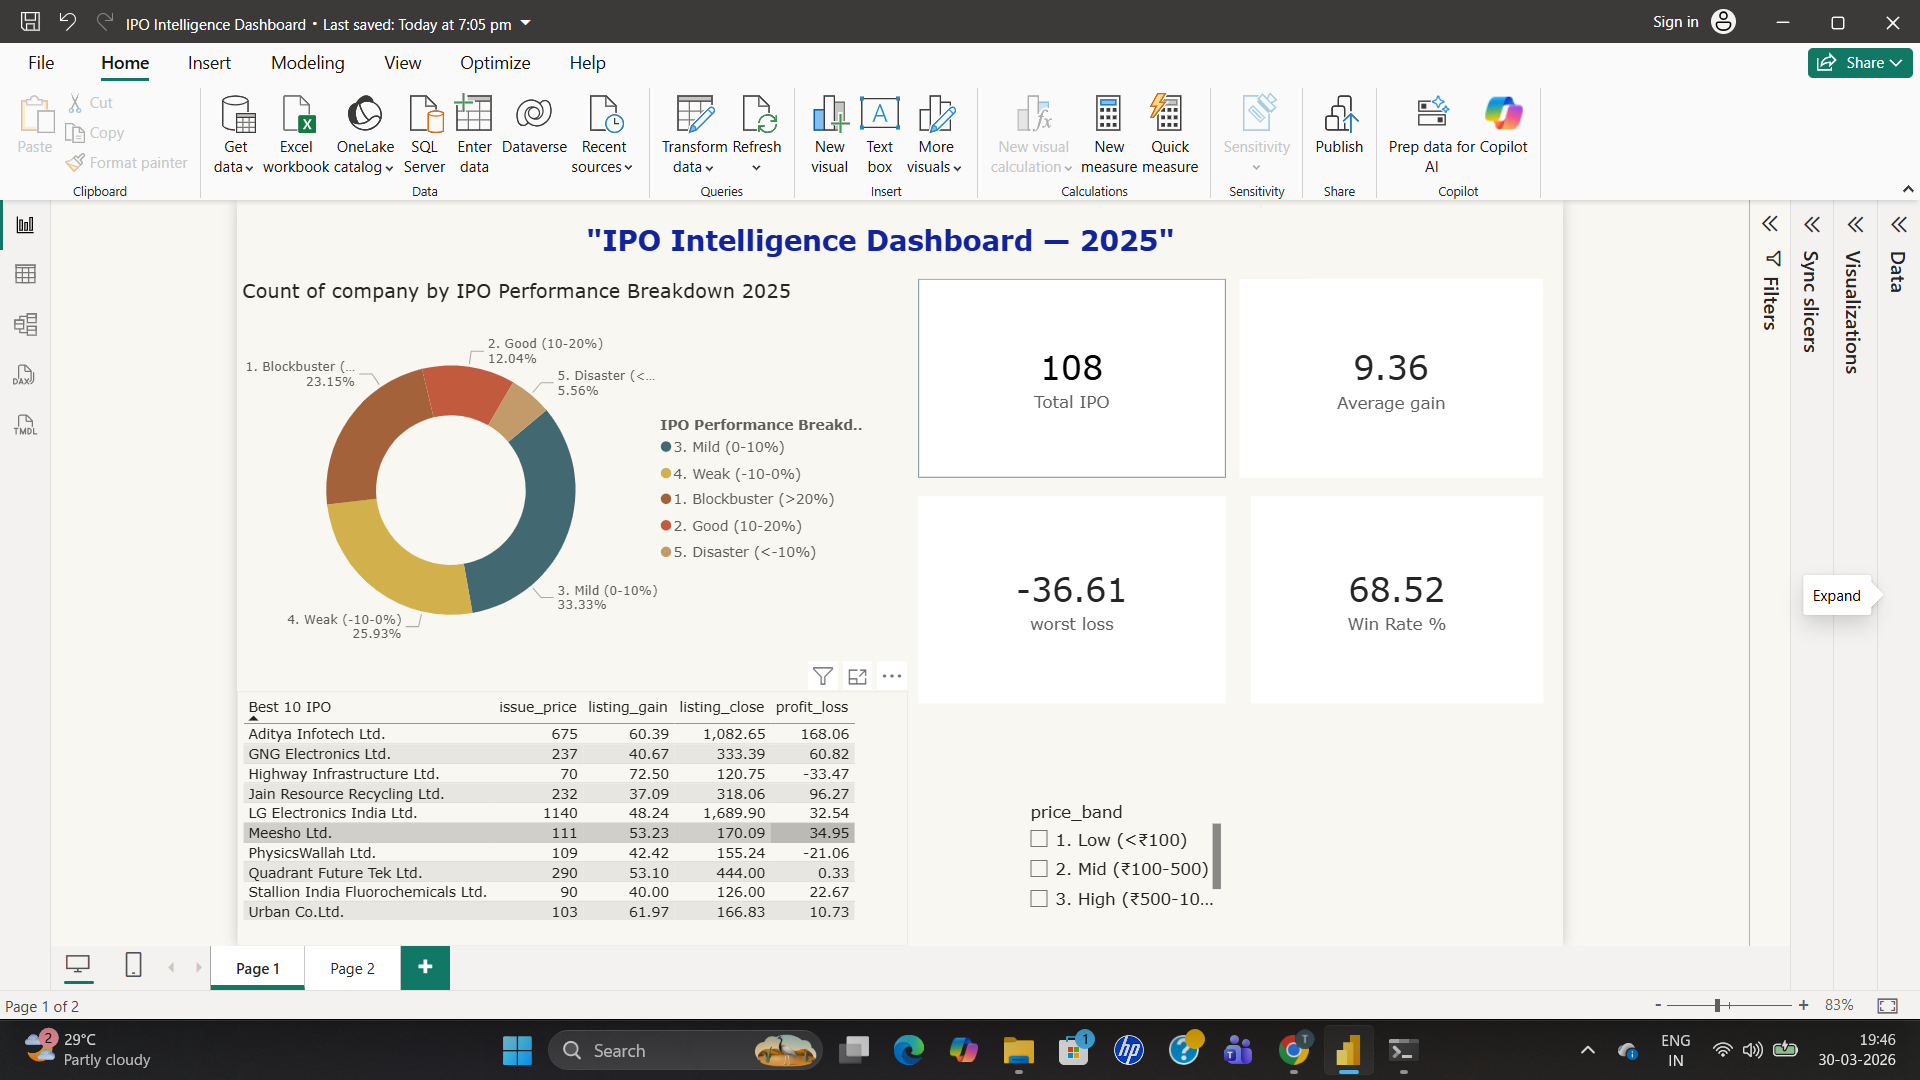

What the dashboard file says about the page in this screenshot:
{"tool":"powerbi","page":{"name":"Page 1","canvas":[1280,720],"ordinal":0},"visuals":[{"type":"card","fields":{"Values":["Avg(public ipo_data.listing_gain)"]},"box":[967.6,76,293.2,191.8],"z":0},{"type":"card","fields":{"Values":["CountNonNull(public ipo_data.company)"]},"box":[657.5,76,296.8,191.8],"z":1000},{"type":"card","fields":{"Values":[" public ipo_data.Win Rate %"]},"box":[978.4,285.9,282.3,200.3],"z":2000},{"type":"card","fields":{"Values":["Min(public ipo_data.listing_gain)"]},"box":[657.5,285.9,296.8,200.3],"z":3000},{"type":"donutChart","fields":{"Category":["public ipo_data.performance_category"],"Y":["CountNonNull(public ipo_data.company)"]},"box":[0,76,603.2,386.1],"z":4000},{"type":"slicer","fields":{"Values":[" public ipo_data.price_band"]},"box":[752.8,575.5,201.5,117],"z":5000},{"type":"tableEx","fields":{"Values":[" public ipo_data.company"," public ipo_data.issue_price"," public ipo_data.listing_gain"," public ipo_data.listing_close"," public ipo_data.profit_loss"]},"box":[0,474.1,647.9,246.1],"z":6000},{"type":"textbox","box":[331.8,16.9,702.1,59.1],"z":7000}]}

Visuals, with their boxes on the page's 1280x720 design canvas (x1, y1, x2, y2). These are canvas units, not pixel positions in the 1920x1080 screenshot, which may show the page scaled, cropped or inside an application window:
card - Avg(public ipo_data.listing_gain): l=968, t=76, r=1261, b=268
card - CountNonNull(public ipo_data.company): l=658, t=76, r=954, b=268
card -  public ipo_data.Win Rate %: l=978, t=286, r=1261, b=486
card - Min(public ipo_data.listing_gain): l=658, t=286, r=954, b=486
donutChart - public ipo_data.performance_category x CountNonNull(public ipo_data.company): l=0, t=76, r=603, b=462
slicer -  public ipo_data.price_band: l=753, t=576, r=954, b=692
tableEx -  public ipo_data.company x  public ipo_data.issue_price: l=0, t=474, r=648, b=720
textbox: l=332, t=17, r=1034, b=76
